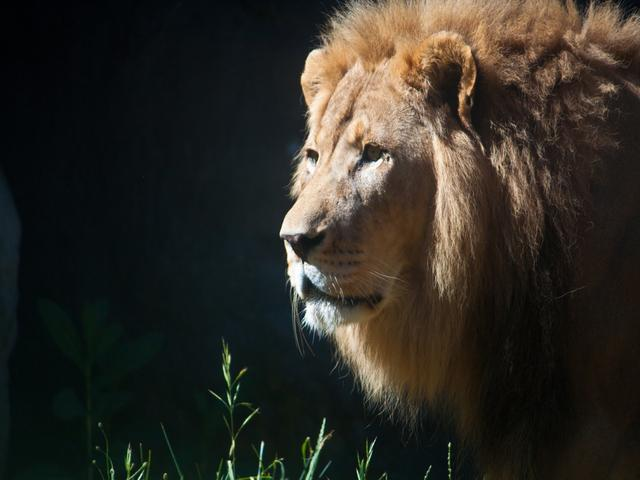lion: (216, 5, 628, 480)
